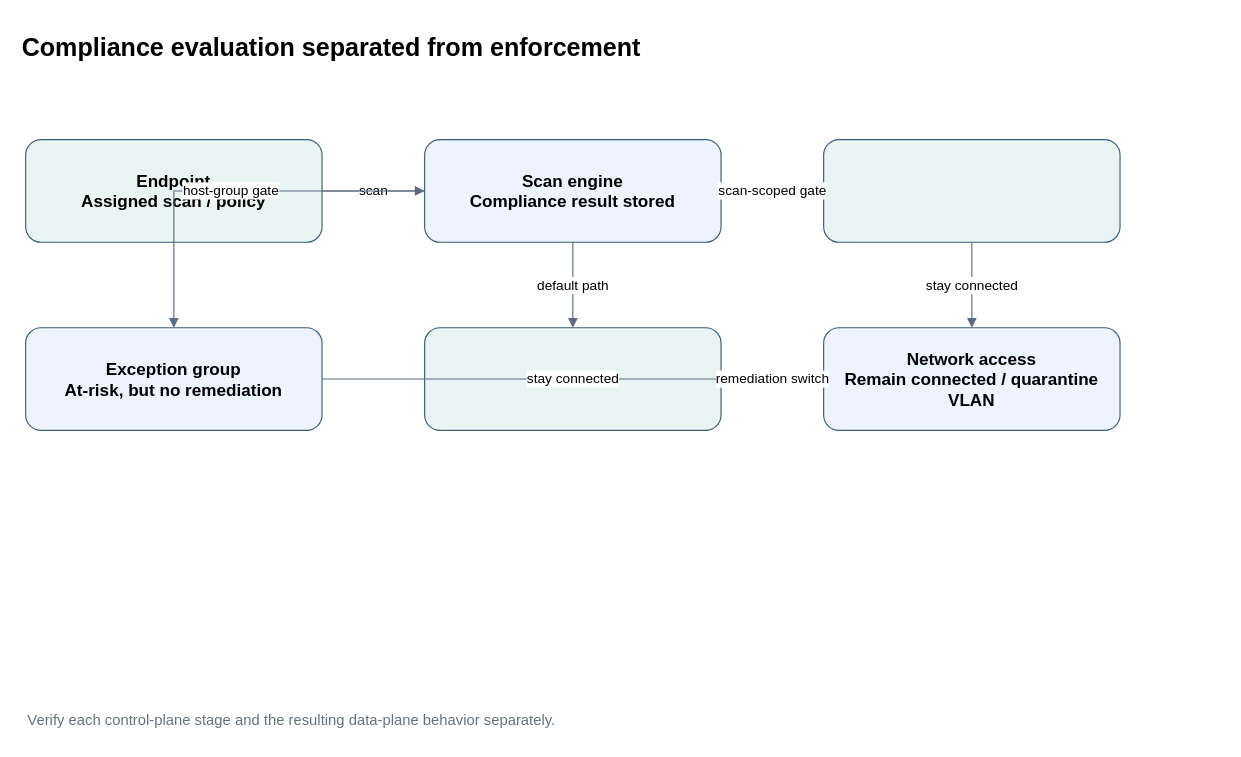
Some shapes in this 1241 by 757 pixel diagram are drawn without their labels. The box of each missing label's shape, as (x1, y1, x2, y2) in pixels:
Audit Only No at-risk transition: (823, 139, 1120, 242)
Normal enforcement At-risk -> remediation: (424, 327, 721, 430)
